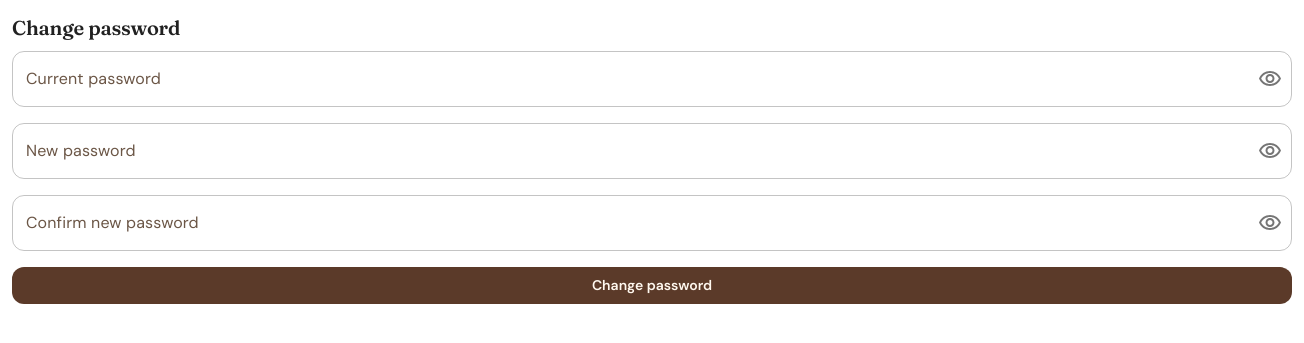
ChangePasswordForm › requires a new password of at least 15 characters
Type "brew-test-pass-001" into the password field labelled "Current password" at (627, 79), box [12,51,1242,107]
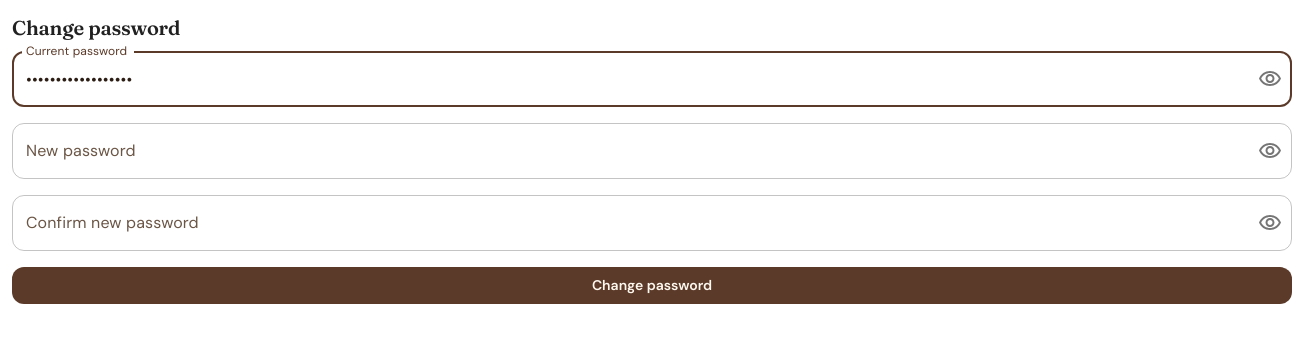
Type "short" into the password field labelled "New password" at (627, 151), box [12,123,1242,179]
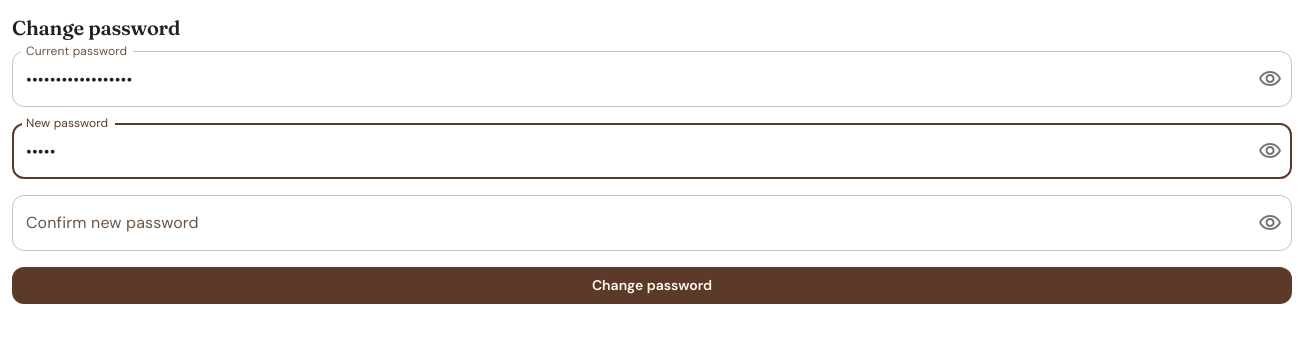
Type "short" into the password field labelled "Confirm new password" at (627, 223), box [12,195,1242,251]
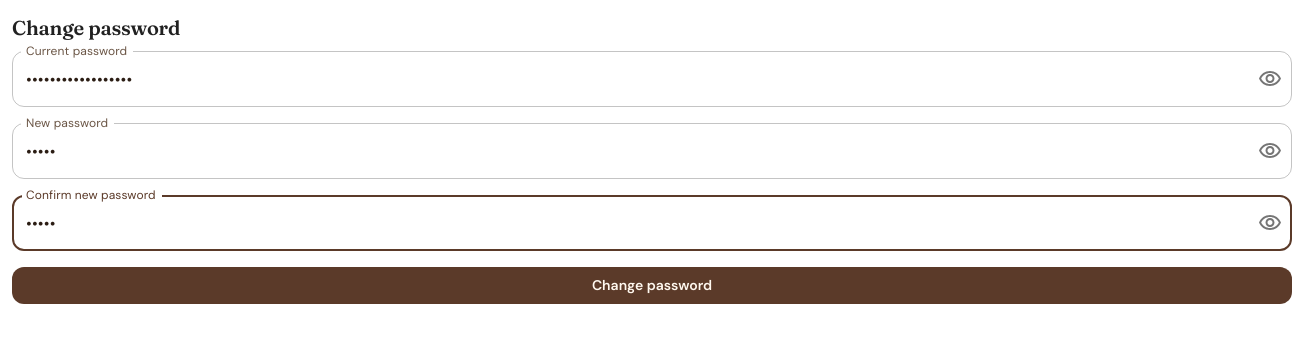
Click the button "Change password" at (652, 285), box [12,267,1292,304]
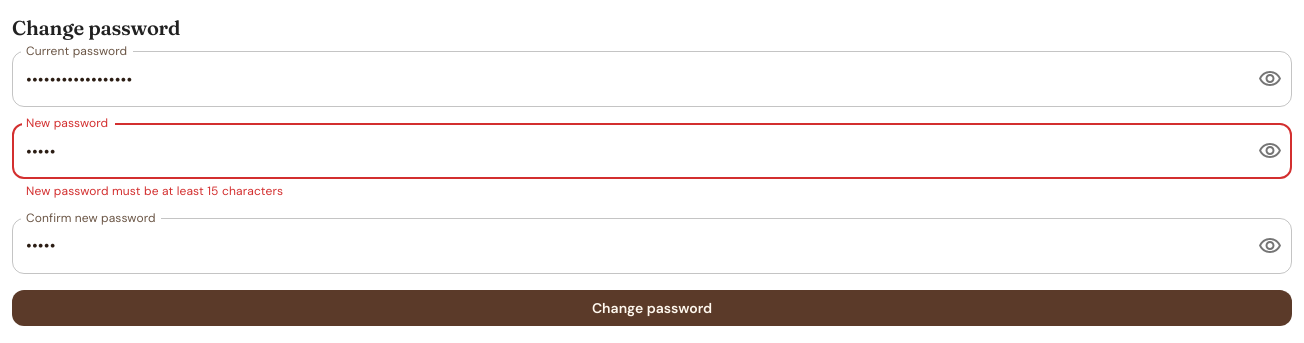
Expected: the text "New password must be at least 15 characters" is shown, [26,183,283,199]
